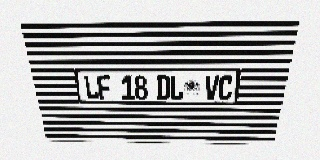1: (120, 75, 134, 100)
8: (134, 75, 147, 100)
C: (218, 75, 234, 100)
D: (156, 75, 170, 100)
F: (97, 75, 112, 99)
L: (83, 75, 99, 99), (170, 75, 184, 100)
V: (204, 75, 219, 100)
